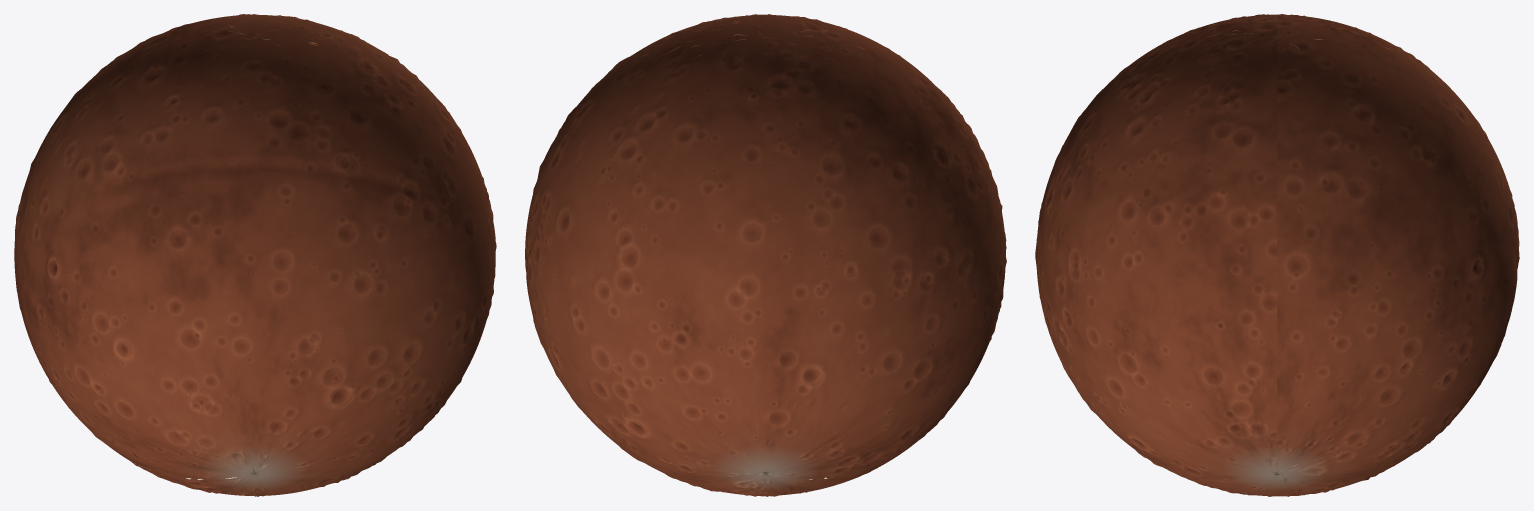
File: mars.glb
3 views of the same model, side by side, from view 1: azimuth 30°, elevation 25°; view 2: azimuth 150°, elevation 25°; view 3: azimuth 270°, elevation 25° (orthographic).
Visible parts, largest first — view 1: Mars; view 2: Mars; view 3: Mars.
Part boxes in pixels (bbox=[...]): Mars: bbox=[14, 14, 496, 496]; Mars: bbox=[525, 14, 1006, 496]; Mars: bbox=[1035, 14, 1519, 496].
Size of the model in its own units: 2 by 2.01 by 2.01.
1 material, 1 textured.
